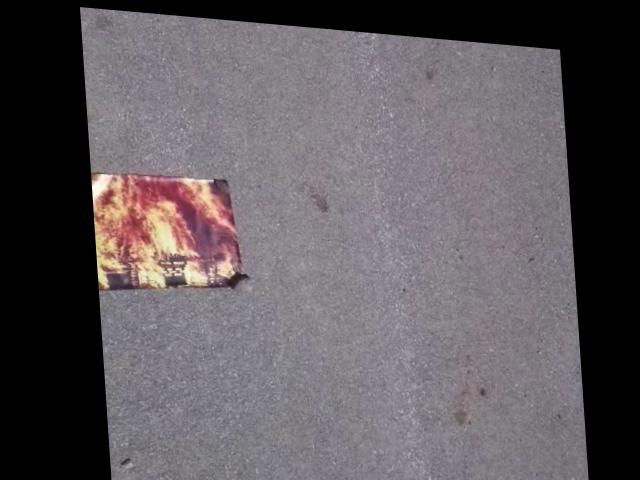fire-poster: (89, 163, 250, 301)
